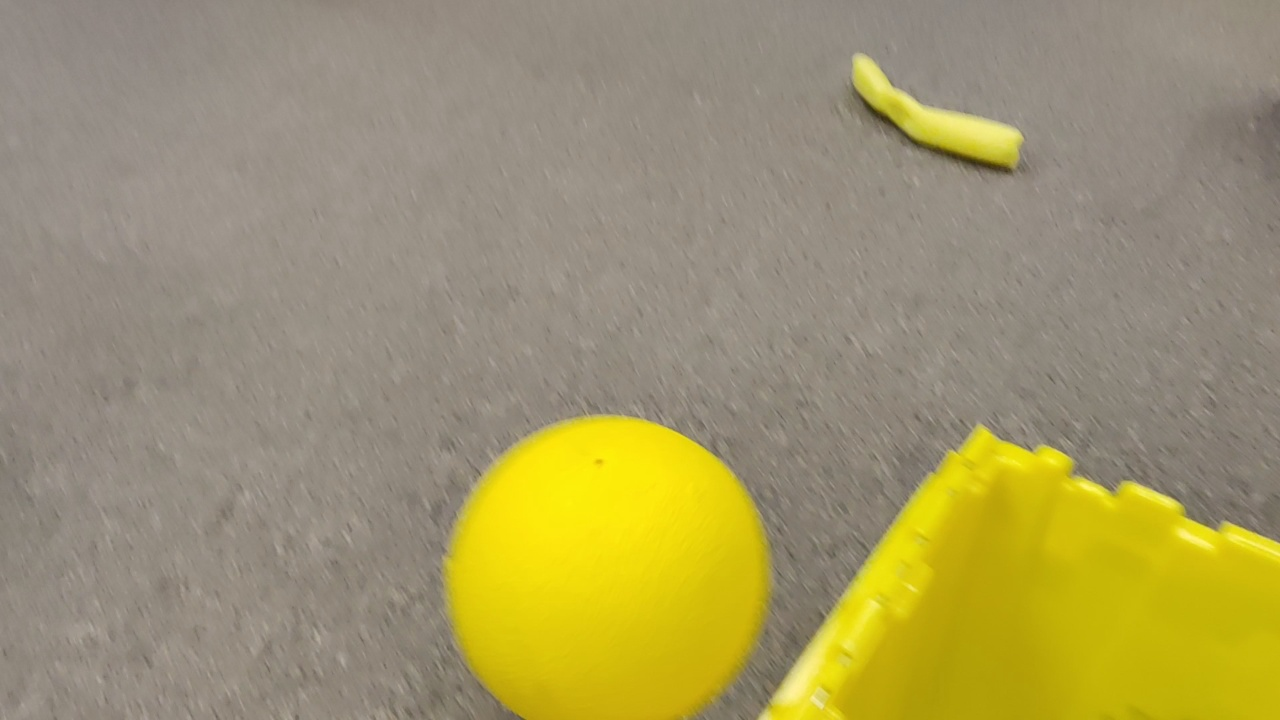Ball: (443, 414, 774, 720)
